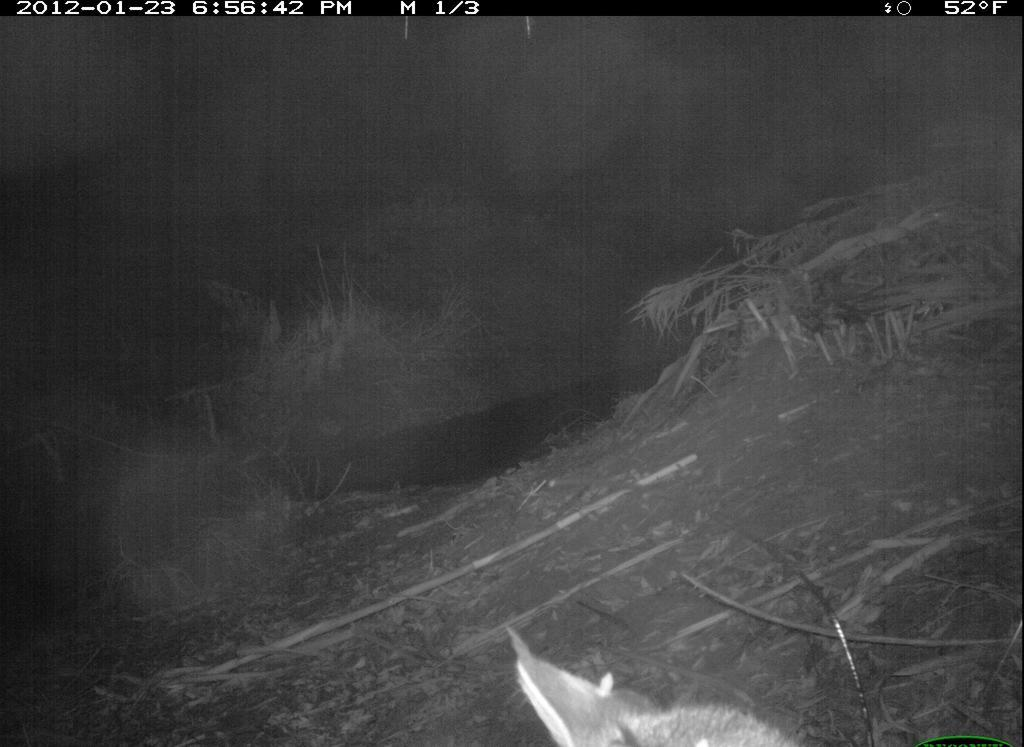bobcat: (483, 620, 820, 747)
